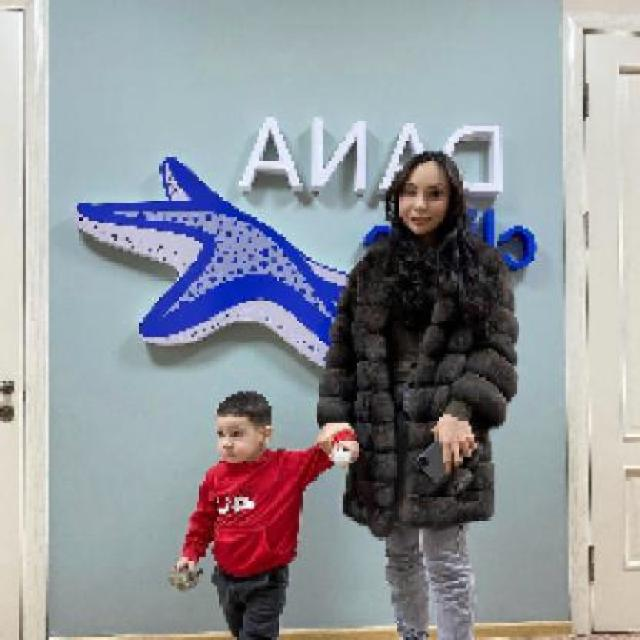child: (174, 386, 363, 637)
